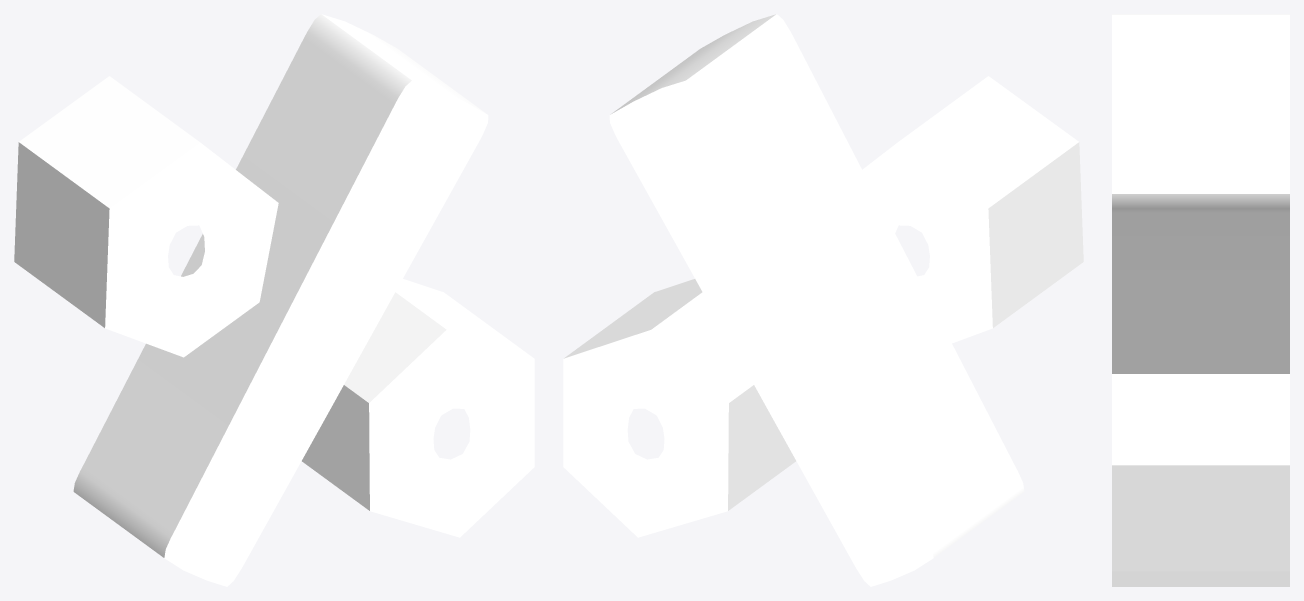
File: 87aba9eb-4ebd-46c9-b3ca-ea7aa20fc5da.glb
The picture shows the model from 3 angles, left to right: view 1: azimuth 30°, elevation 25°; view 2: azimuth 150°, elevation 25°; view 3: azimuth 270°, elevation 25°; orthographic projection. The views are drawn at different scales.
Visible parts, largest first — view 1: %_Zyzol_White; view 2: %_Zyzol_White; view 3: %_Zyzol_White.
Part boxes in pixels (x1,y1,x2,y2): %_Zyzol_White: (14, 14, 534, 586); %_Zyzol_White: (563, 14, 1083, 586); %_Zyzol_White: (1112, 14, 1289, 586).
Size of what is drawn, in the model's own units: 0.1228 by 0.1281 by 0.045.
Materials: 2 (2 with a texture image).
